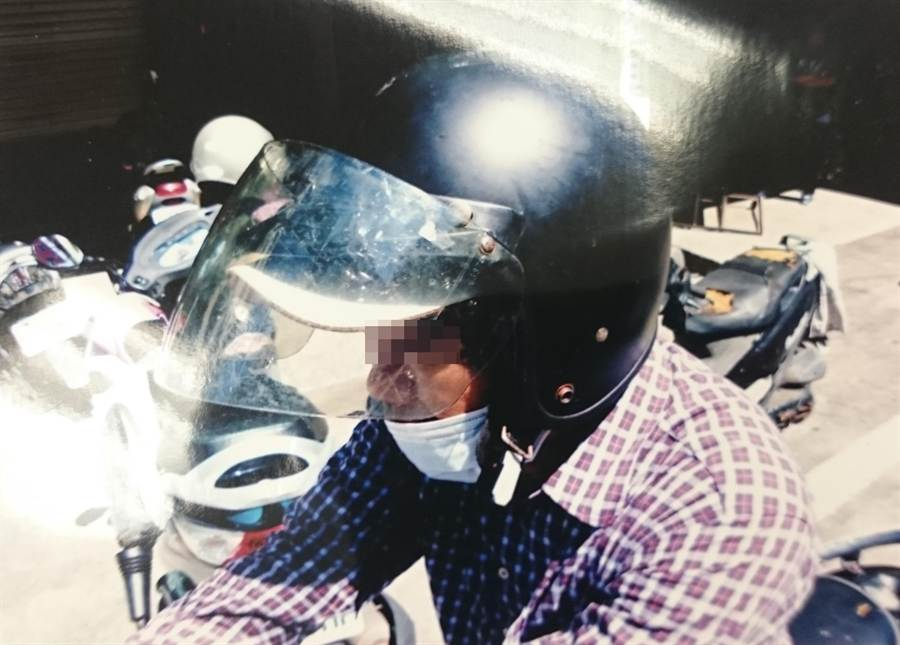helmet: (284, 76, 700, 426)
